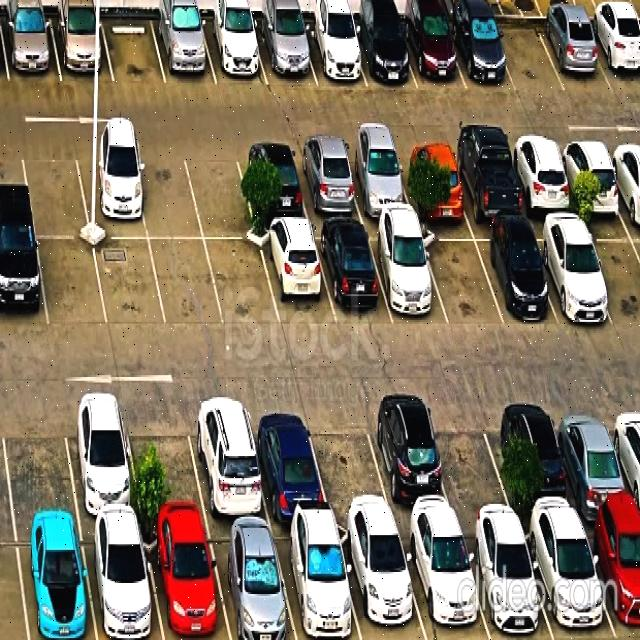empty: (428, 399, 516, 522), (305, 402, 395, 522), (123, 399, 208, 523), (0, 398, 78, 522), (419, 227, 504, 325), (183, 144, 257, 239), (132, 145, 203, 239), (94, 239, 166, 329), (20, 144, 90, 236), (150, 240, 224, 327), (37, 238, 108, 328), (205, 242, 280, 327), (583, 220, 640, 328), (491, 20, 565, 93), (101, 16, 166, 84)
occupied: (363, 400, 458, 523), (521, 520, 616, 640), (460, 523, 553, 640), (398, 523, 490, 640), (551, 398, 638, 519), (186, 397, 270, 522), (206, 525, 297, 640), (337, 524, 427, 640), (272, 524, 361, 640), (246, 400, 331, 521), (142, 524, 230, 640), (499, 397, 581, 521), (61, 397, 142, 521), (81, 523, 163, 640), (15, 523, 96, 640), (529, 221, 615, 321), (472, 227, 557, 324), (366, 226, 448, 324), (313, 225, 393, 323), (259, 226, 336, 327), (581, 516, 640, 640), (74, 145, 148, 238), (448, 143, 526, 220), (236, 144, 310, 223), (395, 144, 470, 219), (291, 144, 364, 220), (536, 19, 613, 91), (341, 143, 414, 218), (506, 140, 577, 215), (556, 139, 626, 213), (447, 17, 516, 90), (399, 17, 467, 90), (349, 20, 417, 88), (0, 233, 48, 328), (200, 18, 268, 85), (151, 17, 217, 85), (299, 22, 367, 86), (50, 16, 114, 82), (0, 16, 61, 82), (254, 22, 316, 85), (585, 21, 640, 92)
